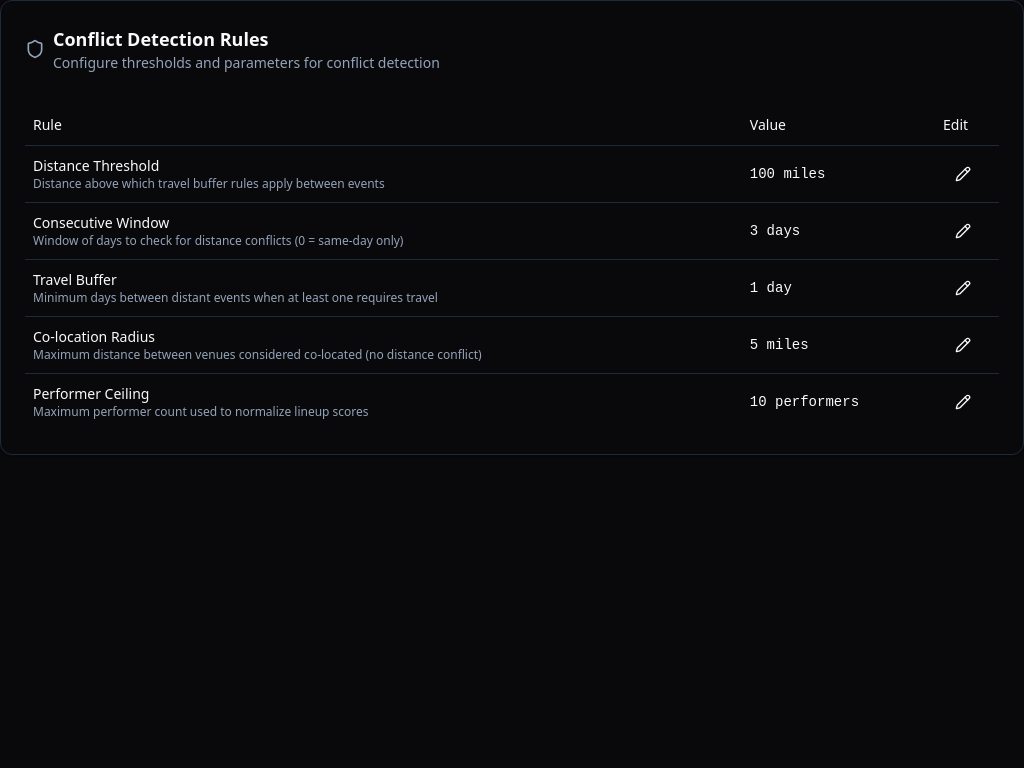
it: ConflictRulesSection › opens edit dialog when edit button is clicked
Click the first edit button (Distance Threshold)
Click the button without text in the row of "Distance Threshold" at (963, 174), box [943,154,983,194]
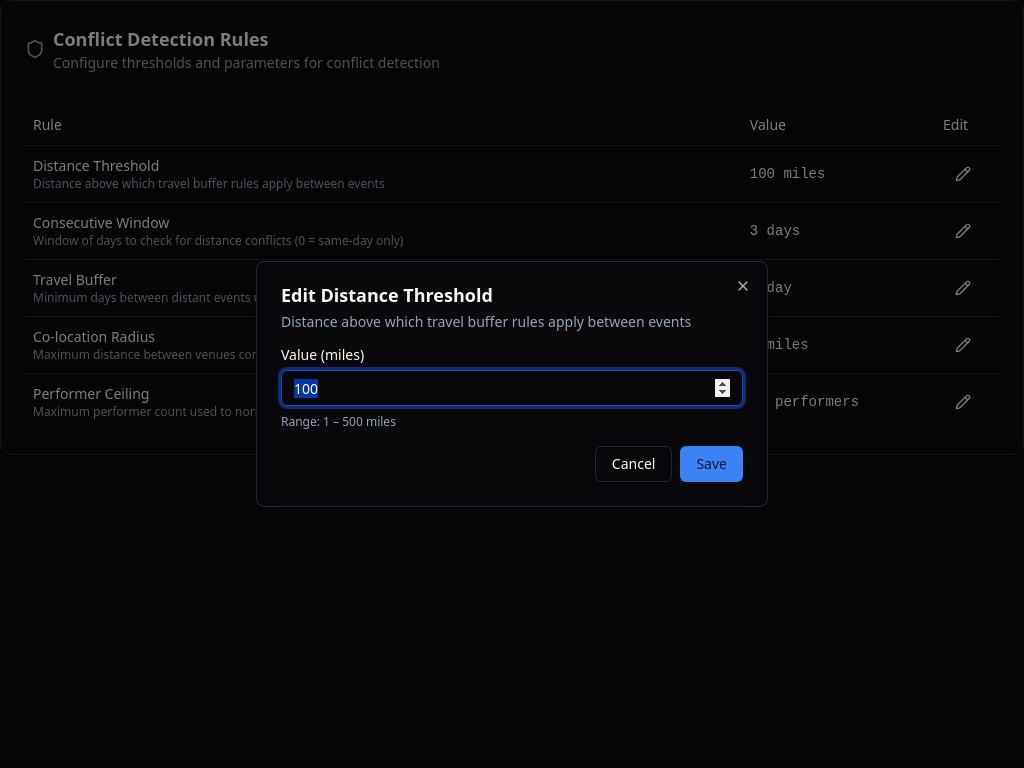
Result: the heading "Edit Distance Threshold" is shown at [281,283,493,307]
Result: the number field labelled "Value (miles)" holds "100" at [281,370,743,406]
